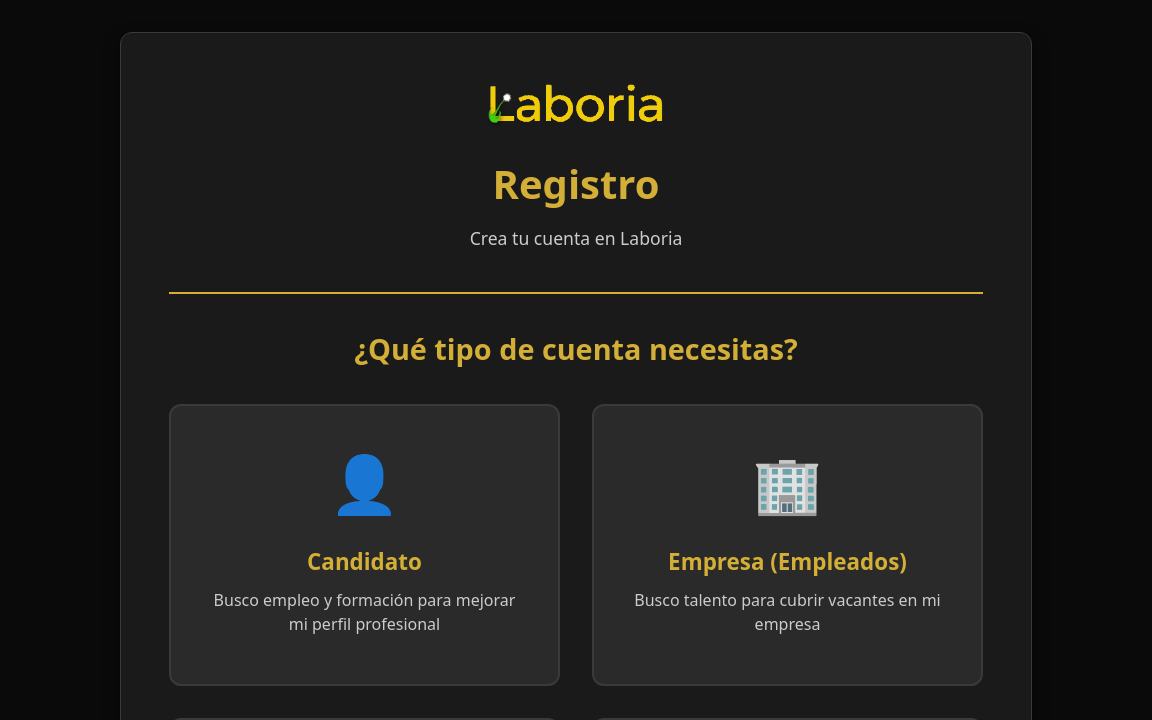
Test: RegisterPage › muestra los términos legales y consentimientos
This screenshot has width=1152, height=720.
Step 1. Click the heading "Candidato" → (364, 561), box [307,546,422,577]
(page scrolled)
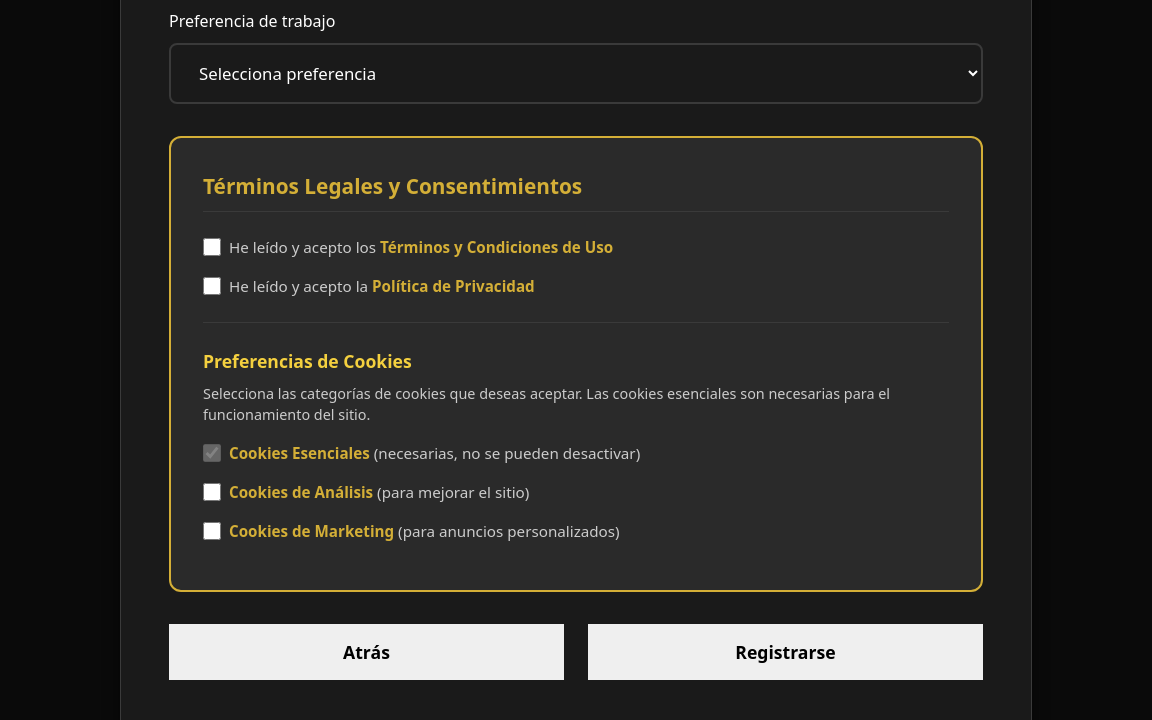
Expected: the heading "Términos Legales y Consentimientos" is shown, [203,170,949,212]
Expected: the link "Términos y Condiciones de Uso" is shown, [380,237,613,257]
Expected: the link "Política de Privacidad" is shown, [372,276,535,296]
